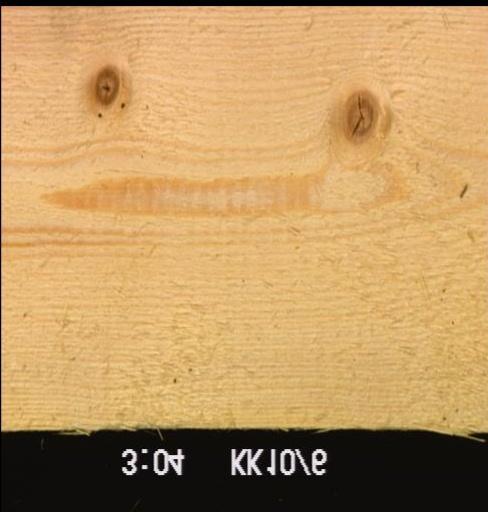sound_knot: (337, 87, 378, 143), (92, 66, 118, 106)
